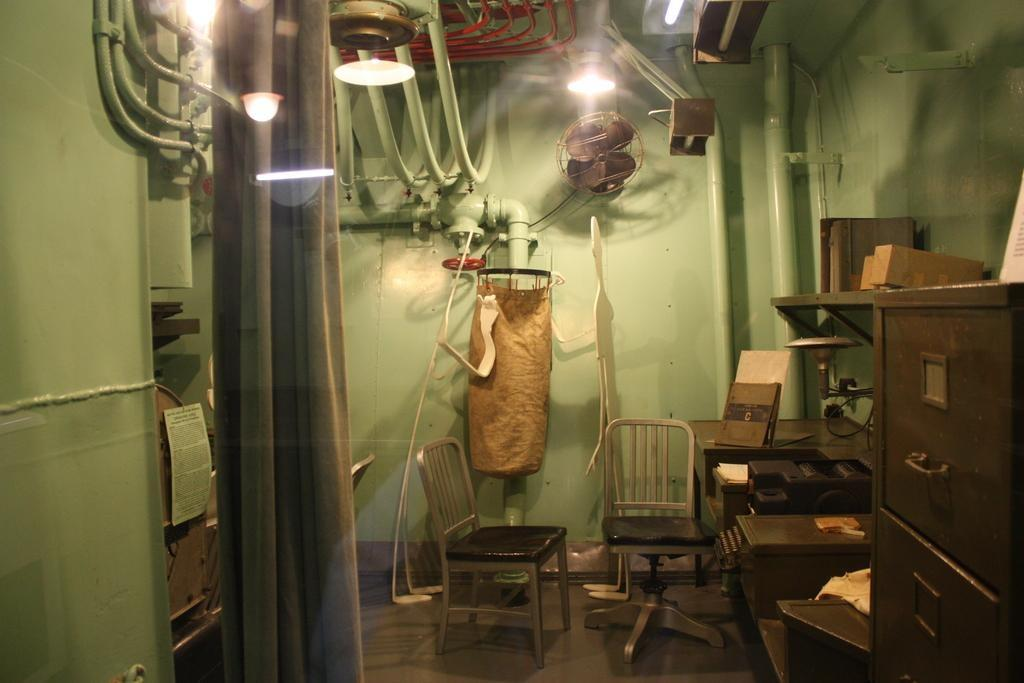Filing Cabinet: (871, 277, 1023, 682)
Kursi: (415, 436, 570, 668), (583, 417, 724, 662)
